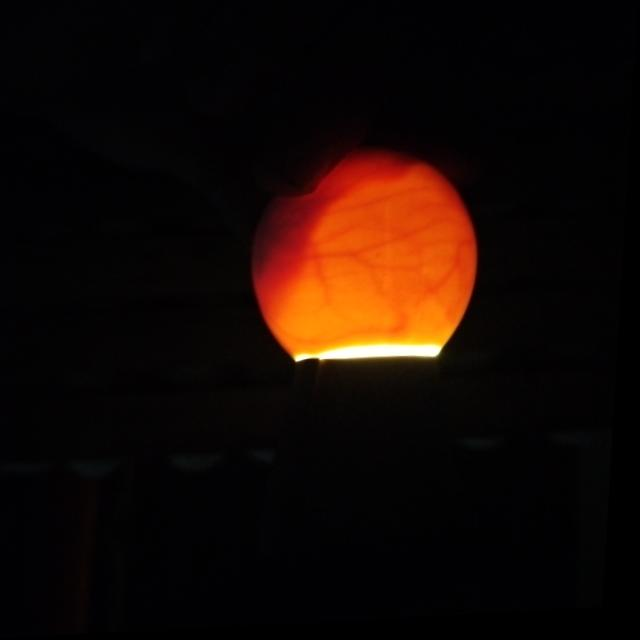Embriao: (254, 154, 417, 321)
